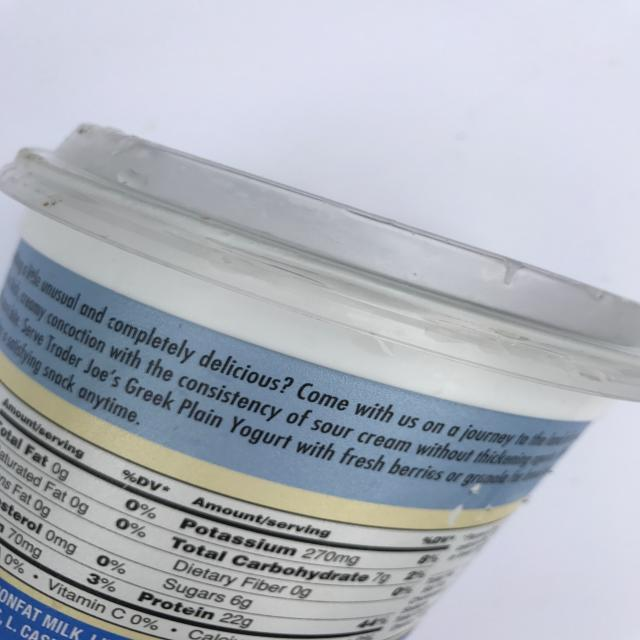plastic: (1, 121, 639, 639)
